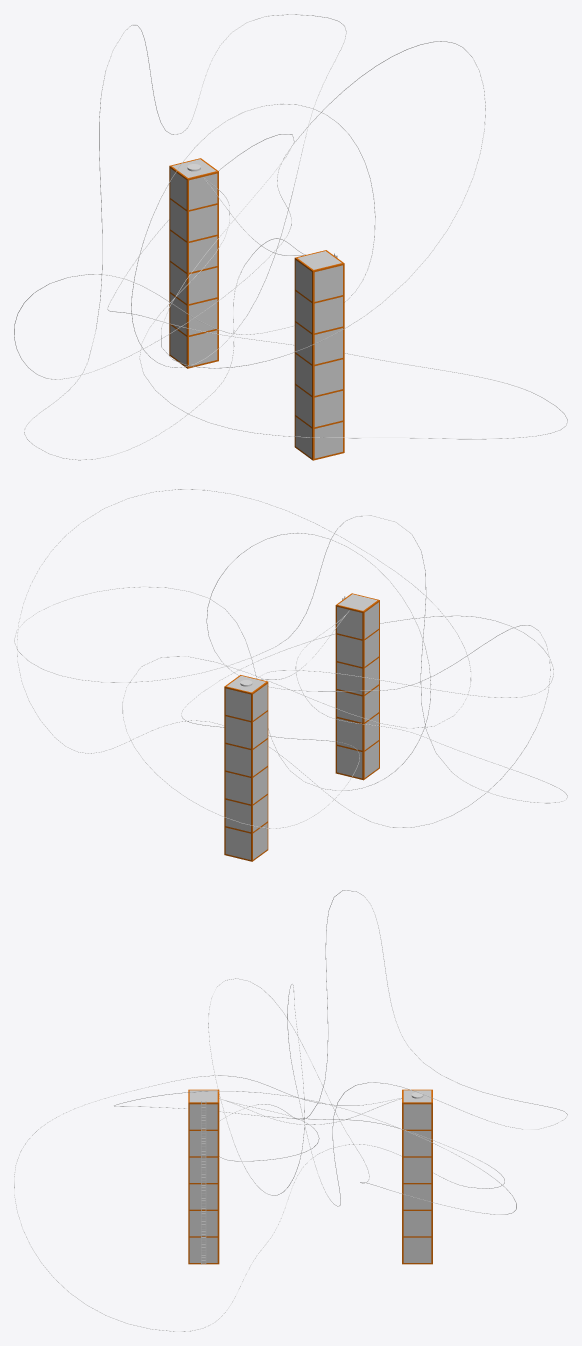
File: CircusGame_01.fbx
3 renders of one model, top to bottom at view 1: azimuth 30°, elevation 25°; view 2: azimuth 150°, elevation 25°; view 3: azimuth 270°, elevation 25°, orthographic. The views are drawn at different scales.
Parts seen in each view (by area): view 1: TowerStart, TowerEnd, Rope; view 2: TowerStart, TowerEnd, Rope; view 3: TowerStart, TowerEnd, Rope, Ladder.
Part boxes in pixels (x1,y1,x2,y2): TowerStart: [294, 250, 344, 460]; TowerEnd: [169, 158, 218, 368]; Rope: [14, 14, 567, 460]; TowerStart: [335, 593, 379, 780]; TowerEnd: [224, 675, 268, 861]; Rope: [14, 489, 567, 828]; TowerStart: [188, 1089, 219, 1264]; TowerEnd: [402, 1089, 432, 1264]; Rope: [14, 890, 567, 1331]; Ladder: [201, 1101, 206, 1264].
Size of the model in its own units: 65.83 by 47.95 by 74.55.
